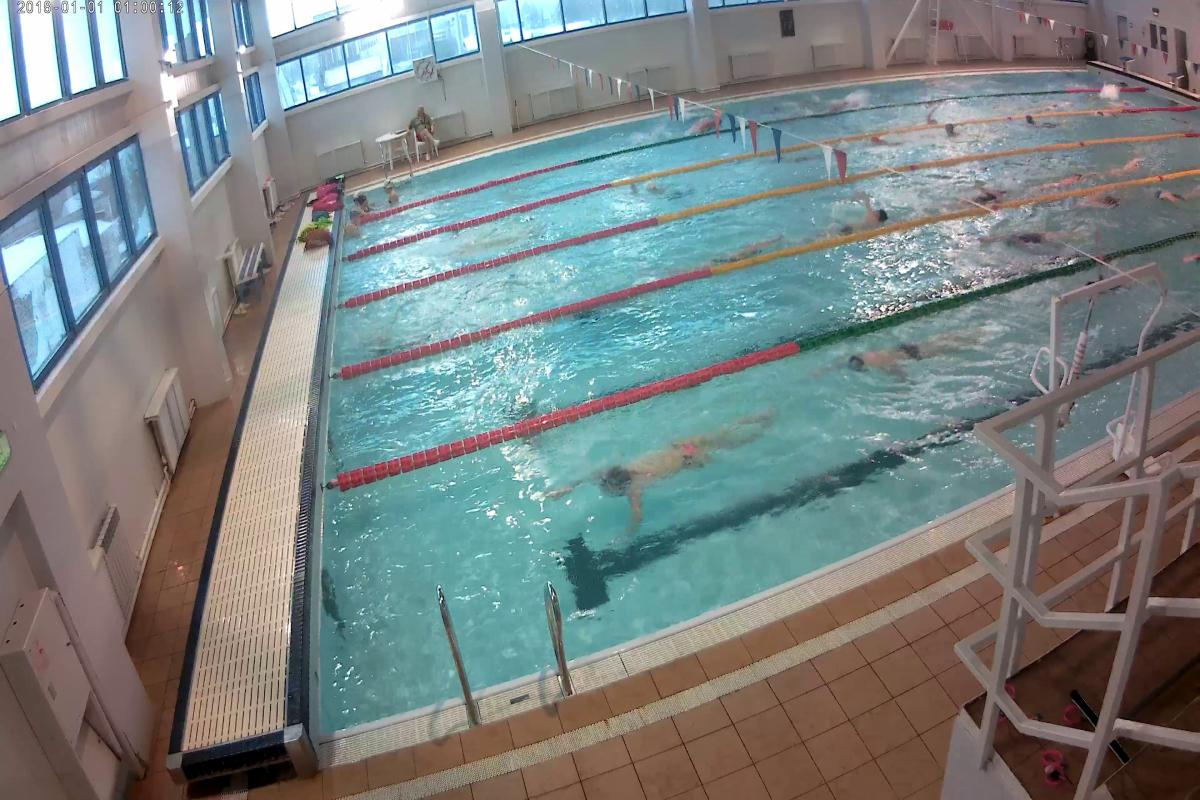swimmer: (611, 418, 768, 494), (832, 327, 972, 382), (829, 198, 895, 235), (991, 218, 1073, 246), (717, 233, 784, 263), (950, 180, 1014, 208), (1086, 189, 1134, 220)
